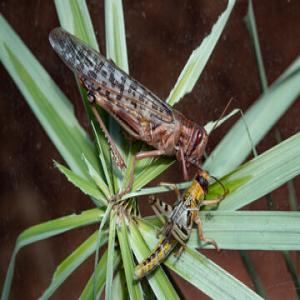locust: (54, 31, 215, 162), (129, 170, 229, 275)
